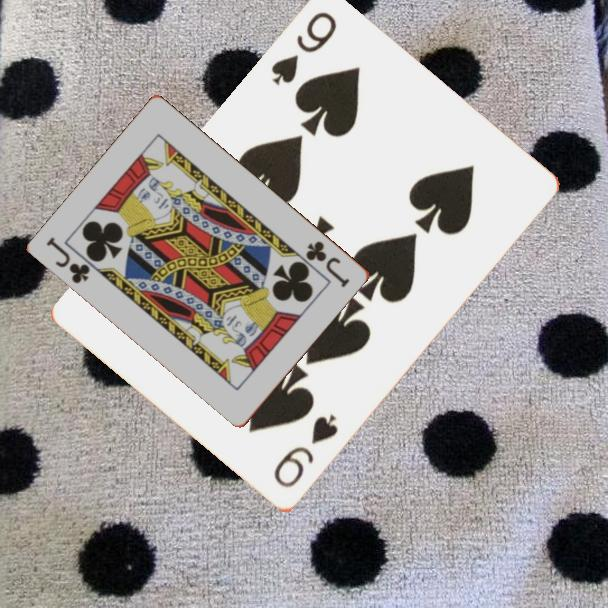c11: (43, 233, 94, 287), (303, 237, 353, 291)
s09: (267, 9, 340, 89), (270, 411, 342, 492)
